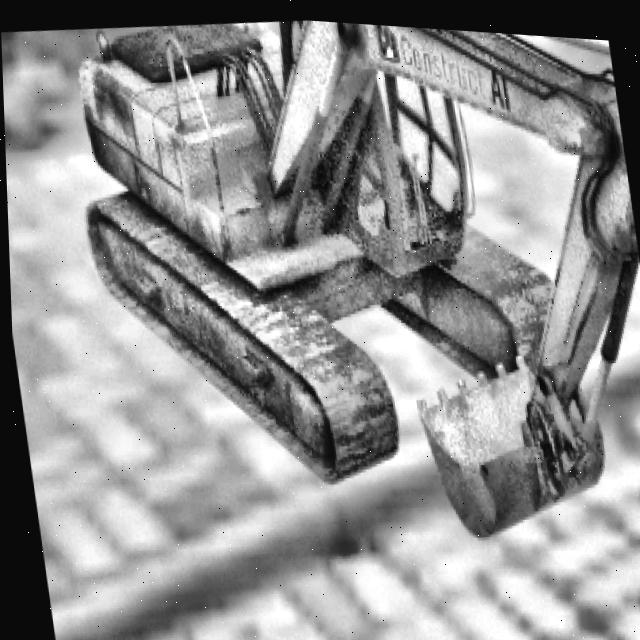excavator: (56, 3, 640, 577)
